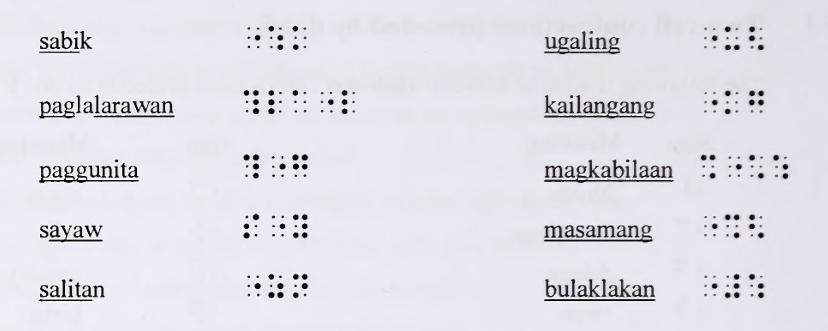dot_5: (271, 154, 286, 180), (320, 90, 334, 114), (704, 27, 719, 49), (727, 156, 742, 178), (704, 214, 718, 237), (704, 275, 718, 298), (272, 214, 285, 238), (247, 274, 261, 296), (704, 92, 718, 113), (247, 26, 260, 48)
letter_a: (292, 90, 308, 115)
letter_g: (749, 89, 764, 115)
letter_k: (291, 25, 308, 51)
letter_l: (268, 88, 284, 116)
letter_n: (294, 274, 308, 298)
letter_s: (244, 214, 258, 238)
one_cell_part_word_an: (772, 154, 788, 179), (750, 274, 764, 300)
one_cell_part_word_mag: (701, 155, 716, 178)
one_cell_part_word_ng: (748, 214, 764, 240), (748, 26, 764, 51)
one_cell_part_word_pag: (243, 89, 260, 116), (245, 156, 259, 178)
two_cell_alphabet_ayaw: (292, 214, 308, 240)
two_cell_alphabet_gunita: (292, 154, 308, 180)
two_cell_alphabet_kailangan: (724, 90, 740, 116)
two_cell_alphabet_larawan: (341, 90, 356, 116)
two_cell_alphabet_salita: (268, 272, 284, 298)
two_cell_alphabet_ugali: (724, 26, 741, 50)
two_cell_non_alphabet_bulaklak: (725, 274, 740, 299)
two_cell_non_alphabet_kabila: (749, 155, 765, 180)
two_cell_non_alphabet_masama: (726, 214, 740, 238)
two_cell_non_alphabet_sabi: (268, 26, 284, 50)
